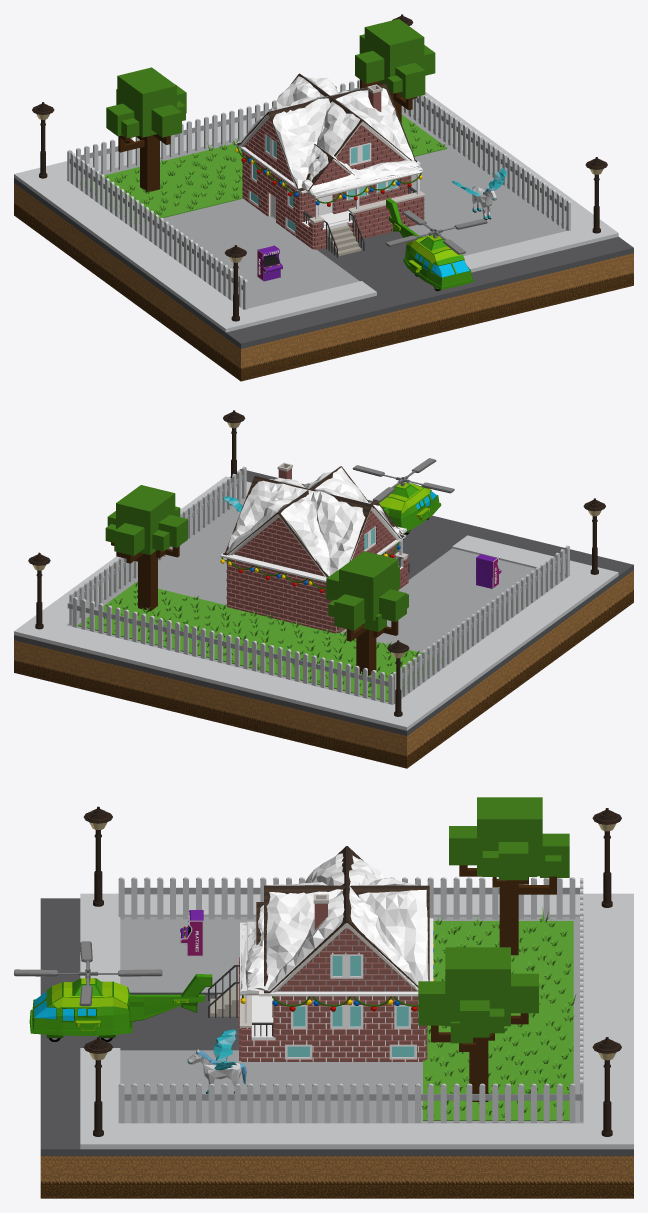
3 renders of one model, top to bottom at view 1: azimuth 30°, elevation 25°; view 2: azimuth 150°, elevation 25°; view 3: azimuth 270°, elevation 25°, orthographic. The views are drawn at different scales.
Parts seen in each view (by area): view 1: Cube.004, Cube.1419, VEHICLES_HELICOPTER, ANIMAL_PEGASO, OBJRANDOM_ARCADE; view 2: Cube.004, Cube.1419, VEHICLES_HELICOPTER, OBJRANDOM_ARCADE; view 3: Cube.004, Cube.1419, VEHICLES_HELICOPTER, ANIMAL_PEGASO, OBJRANDOM_ARCADE.
Boxes of the visible parts, bbox=[...] form: Cube.004: bbox=[14, 14, 633, 381]; Cube.1419: bbox=[235, 73, 425, 257]; VEHICLES_HELICOPTER: bbox=[385, 198, 487, 291]; ANIMAL_PEGASO: bbox=[452, 168, 506, 220]; OBJRANDOM_ARCADE: bbox=[257, 245, 282, 281]; Cube.004: bbox=[14, 410, 633, 768]; Cube.1419: bbox=[220, 462, 409, 633]; VEHICLES_HELICOPTER: bbox=[352, 458, 454, 534]; OBJRANDOM_ARCADE: bbox=[476, 554, 501, 588]; Cube.004: bbox=[40, 797, 633, 1198]; Cube.1419: bbox=[208, 846, 433, 1061]; VEHICLES_HELICOPTER: bbox=[14, 941, 212, 1041]; ANIMAL_PEGASO: bbox=[187, 1029, 246, 1093]; OBJRANDOM_ARCADE: bbox=[180, 910, 203, 956].
Bounding box in the file's own units: 4000 × 1601 × 4179.
Materials: 52 (3 with a texture image).
